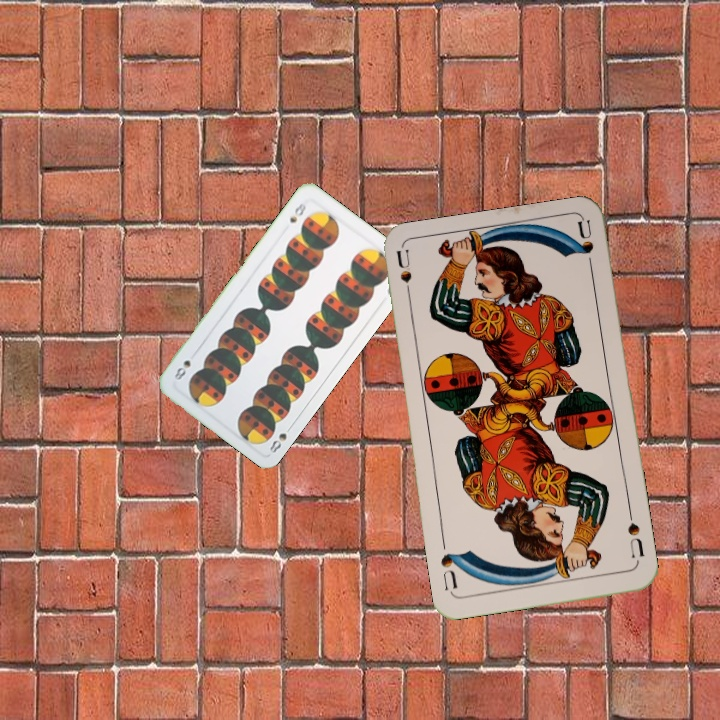S8: (265, 420, 296, 456), (285, 198, 309, 226)
SU: (392, 247, 415, 307), (624, 507, 647, 560)
